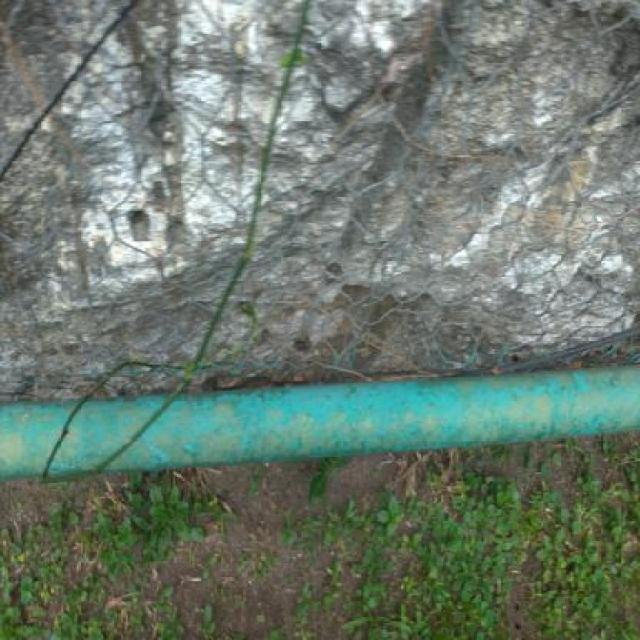gas: (5, 360, 637, 483)
